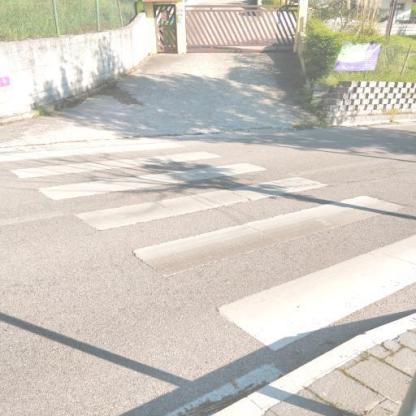crosswalk: (73, 172, 410, 280)
